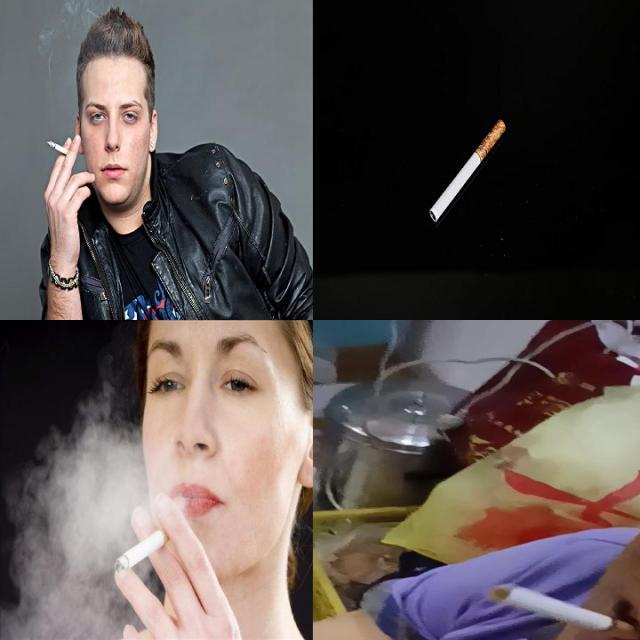smoking: (490, 584, 640, 640), (426, 117, 506, 221), (110, 524, 174, 574), (46, 141, 72, 159)
